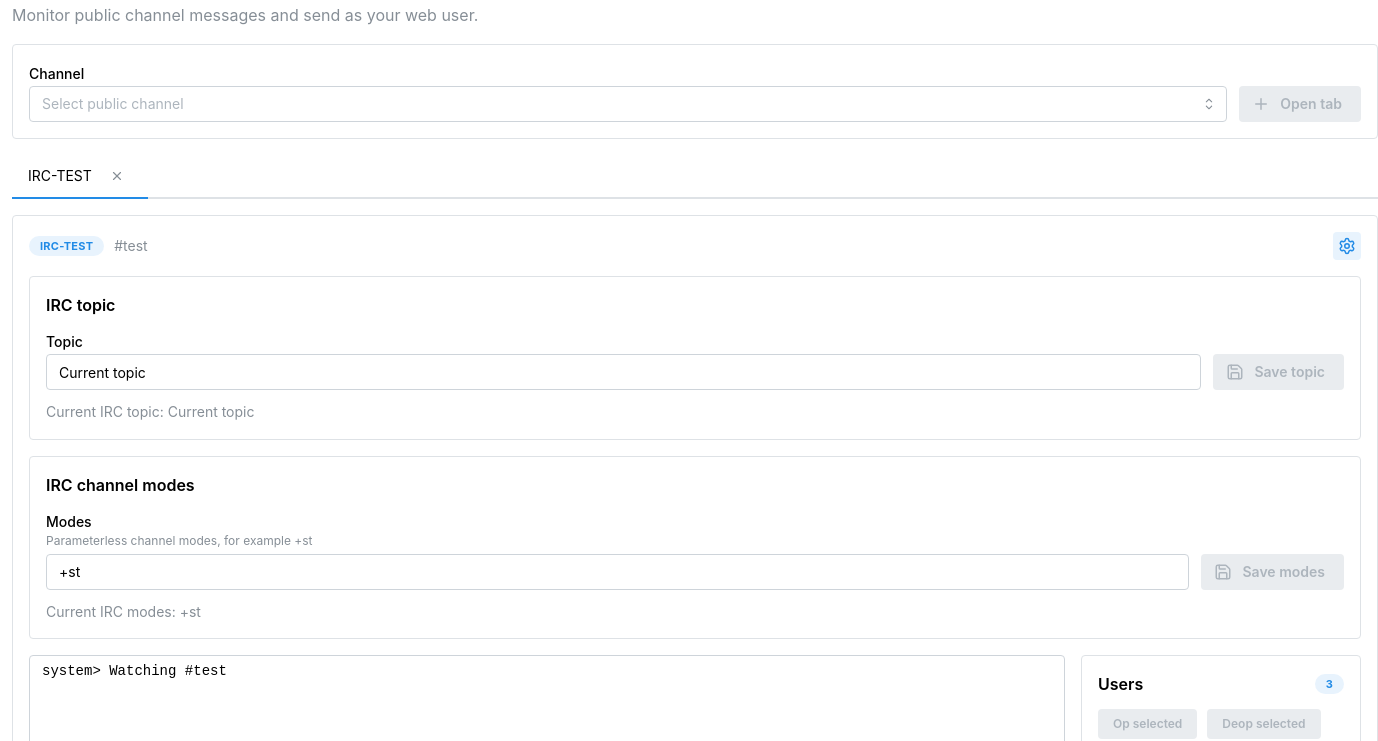
Test: LiveChannelsPage › loads and explicitly saves the IRC topic
The width and height of the screenshot is (1378, 741).
(page scrolled)
Expected: the button "Save topic" is disabled, [1213,354,1344,390]
Step 1. Replace the text in the field named "IRC-TEST IRC topic" with "Updated topic" → (624, 372), box [46,354,1201,390]
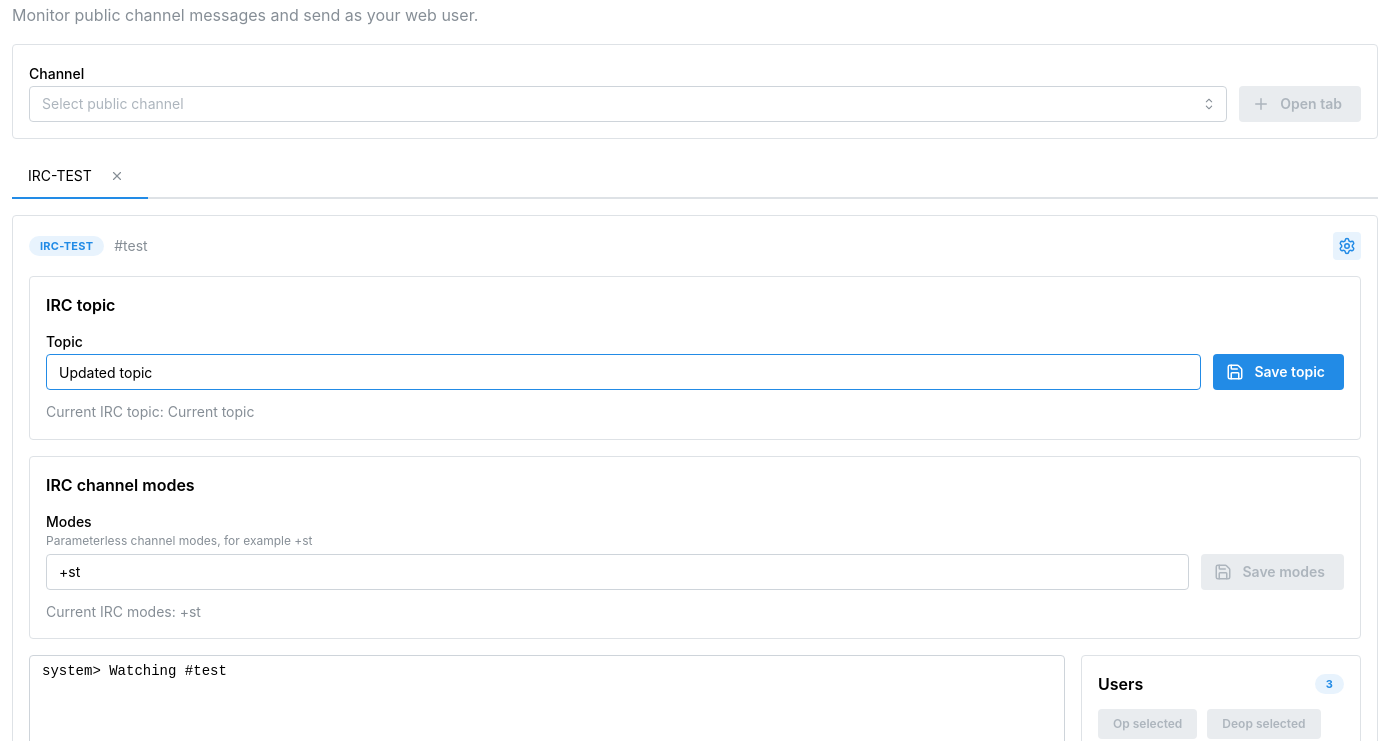
Now the button "Save topic" is enabled
Step 2. Click the button "Save topic" → (1279, 372), box [1213,354,1344,390]
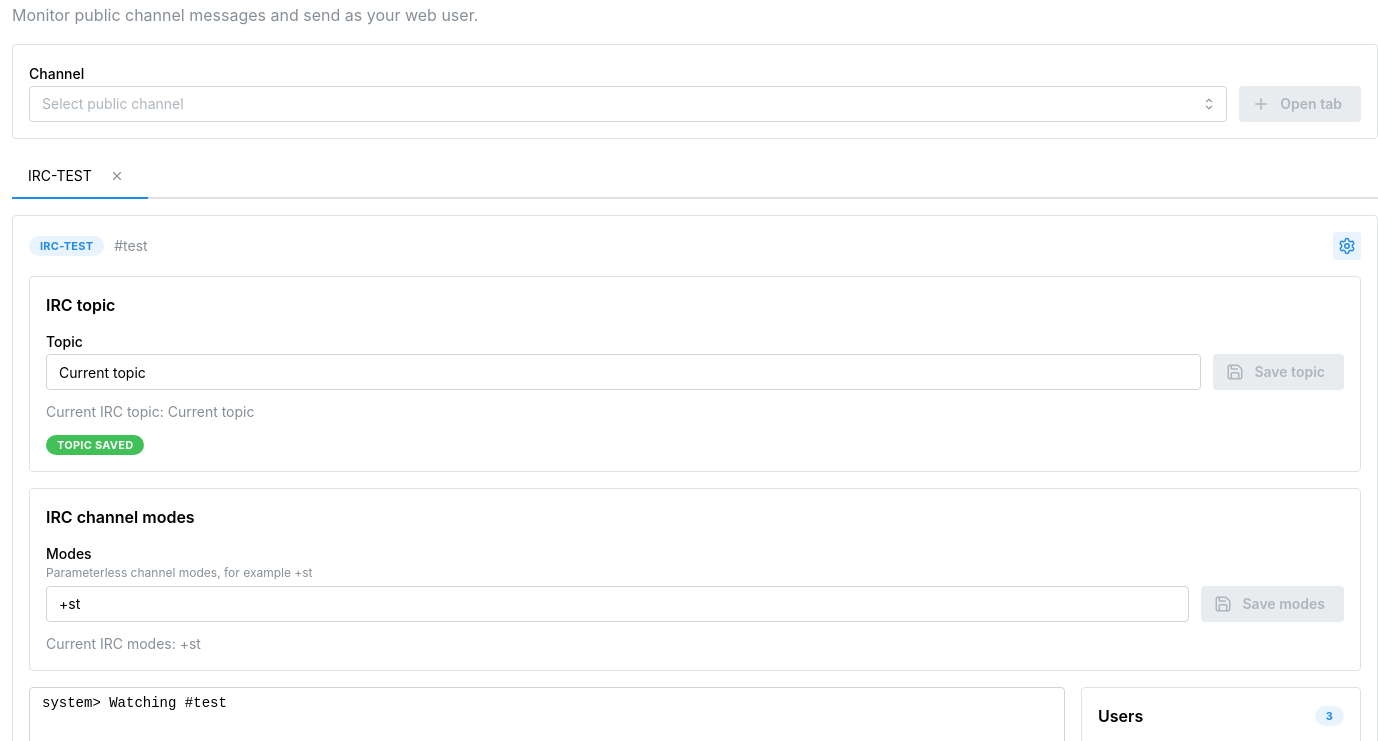
Now the text "Topic saved" is shown, box [57,436,133,454]
